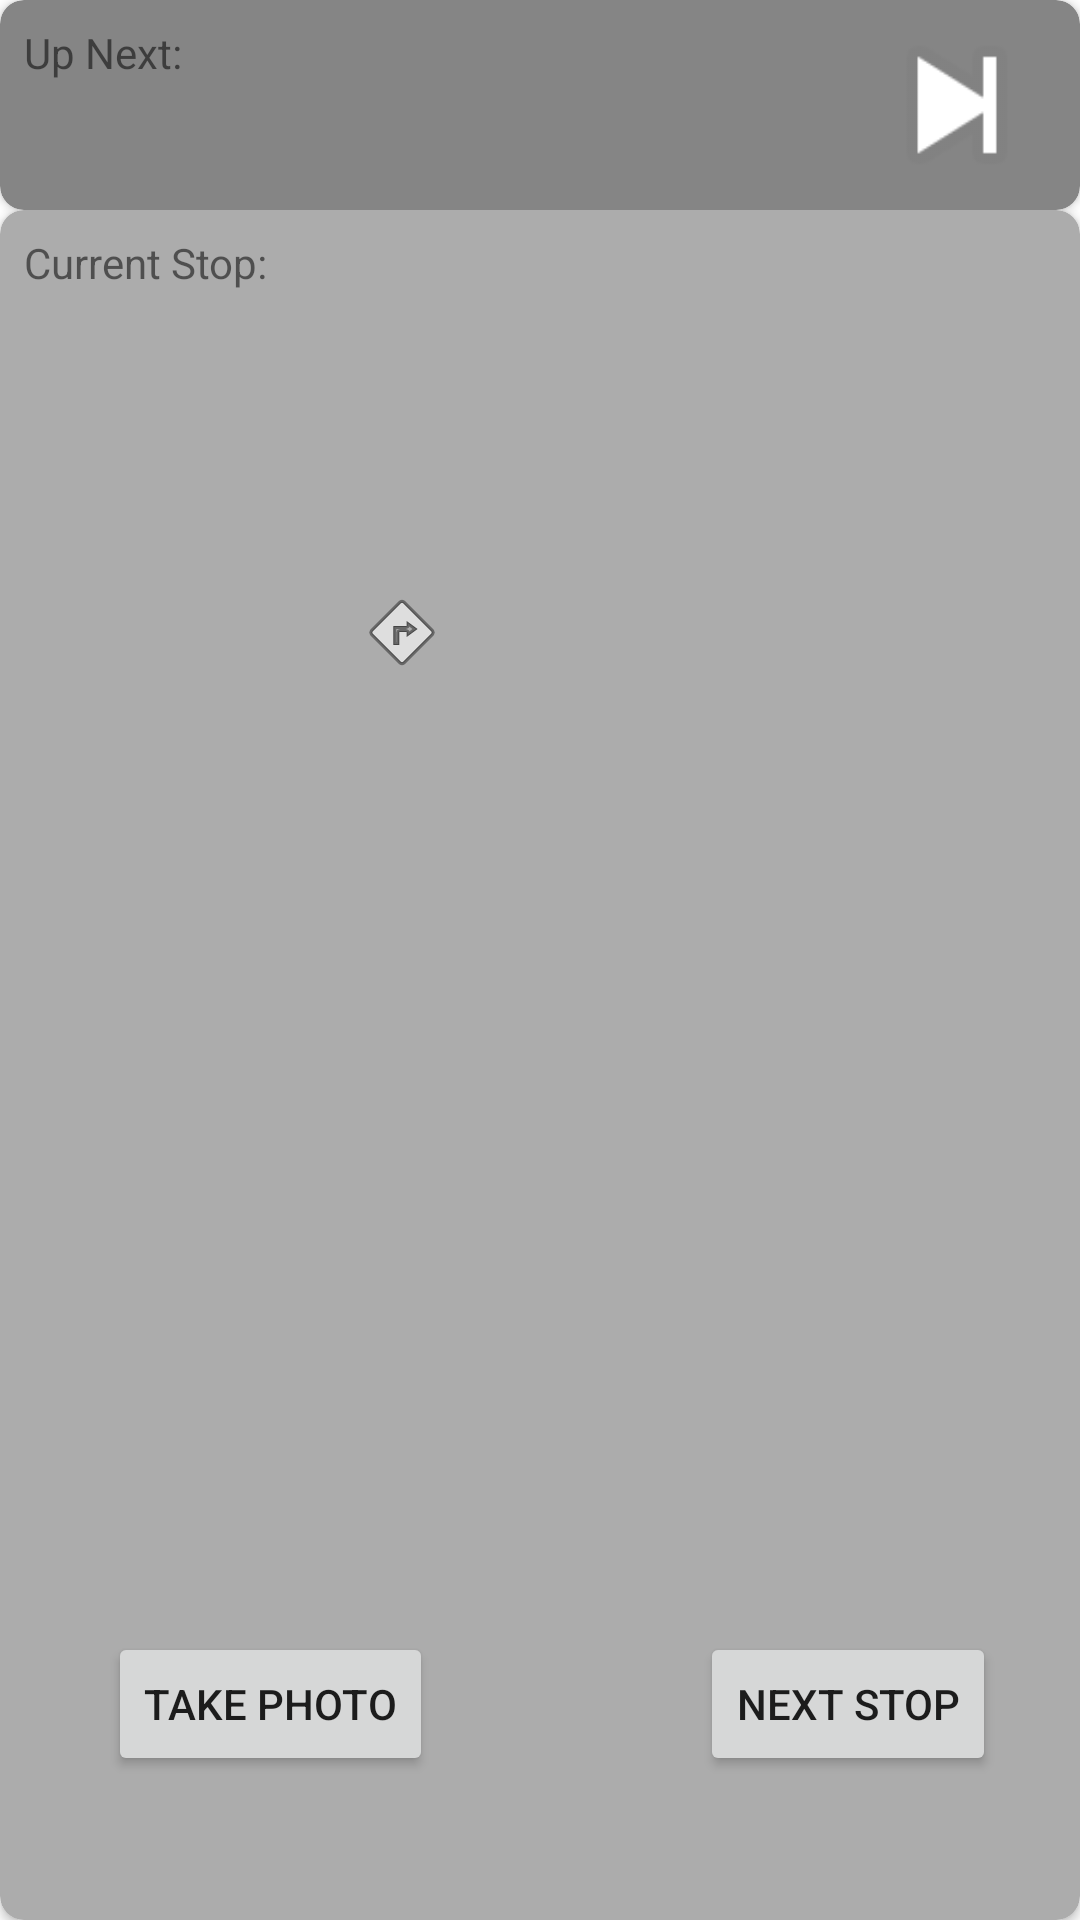

Locate icon controls on the screen. Image size 1080px x 1920px, boxes as box(x1, y1, x2, y2).
directions: box(369, 600, 435, 665)
Next Stop: box(917, 0, 1080, 154)
